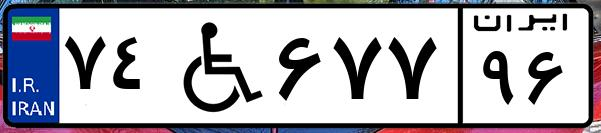4: (110, 28, 158, 98)
6: (270, 28, 330, 110), (525, 38, 570, 115)
7: (385, 28, 445, 110), (330, 28, 385, 110), (57, 26, 110, 100)
9: (475, 38, 525, 113)
ژ (معلولین و جانبازان): (158, 12, 270, 120)
